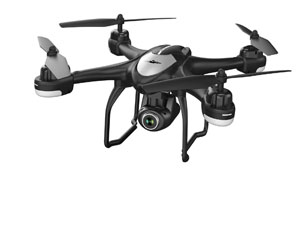drone: (30, 12, 292, 163)
